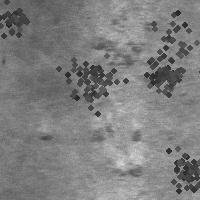rolled-in_scale: (118, 0, 200, 91), (53, 43, 125, 115), (82, 122, 148, 182), (87, 13, 152, 68), (140, 51, 186, 97), (160, 145, 200, 195), (0, 0, 33, 39)
